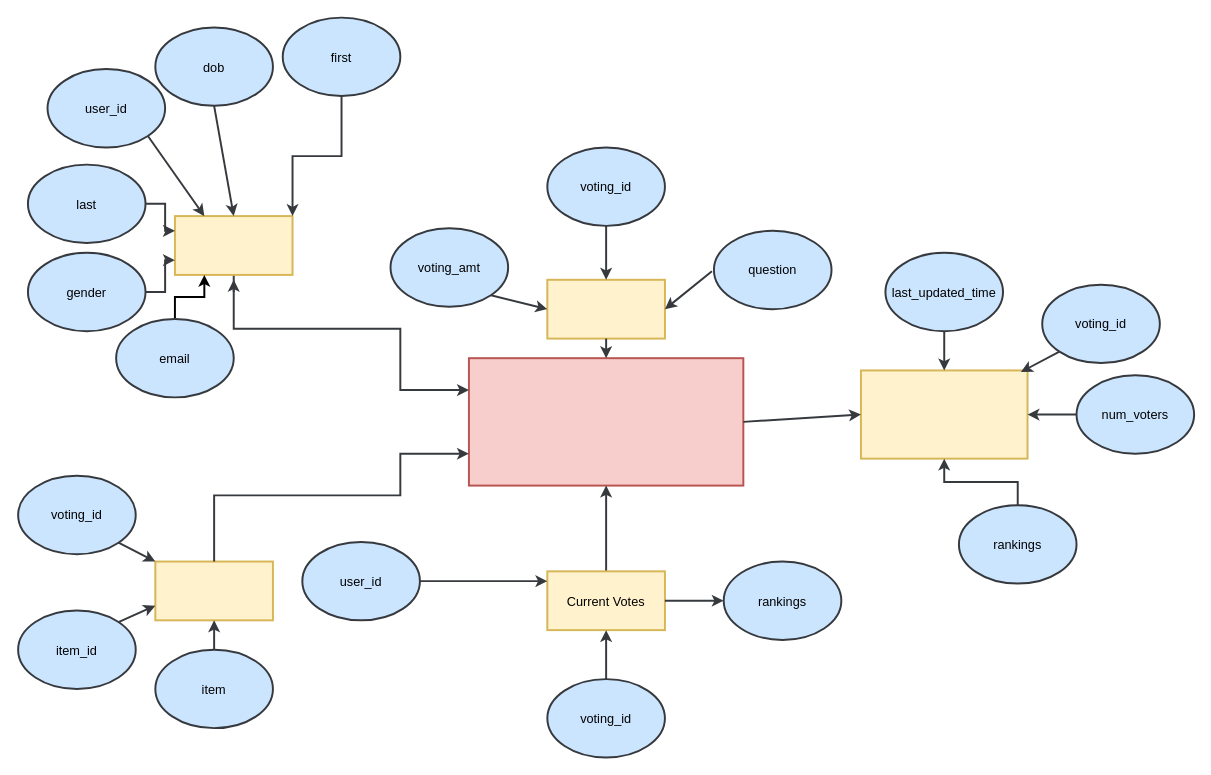
Some shapes in this 1211 by 775 pixel diagram are drawn without their labels. The shapes that lost their labels are listed below. From the top down, each one's centre as x and y in pixels, then its label:
At point 233,245: "Users".
At point 605,308: "Voting List".
At point 605,421: "Consensus Vote".
At point 943,414: "calculated_consensus".
At point 213,590: "voting_elements".
